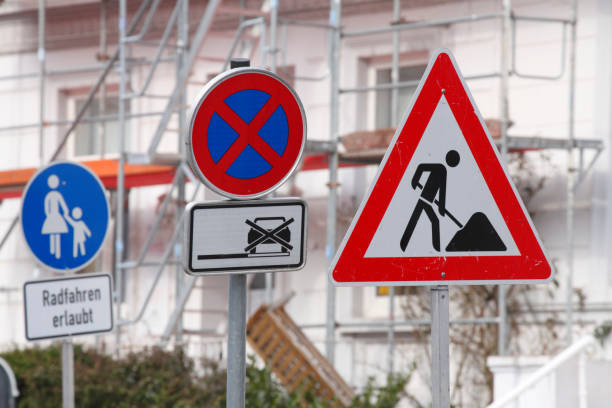yol_calismasi_levha: (324, 48, 553, 286)
